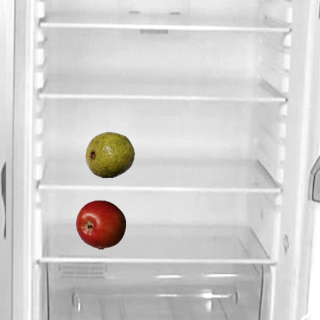Apple Braeburn: (75, 199, 125, 249)
Guava: (84, 129, 134, 179)
